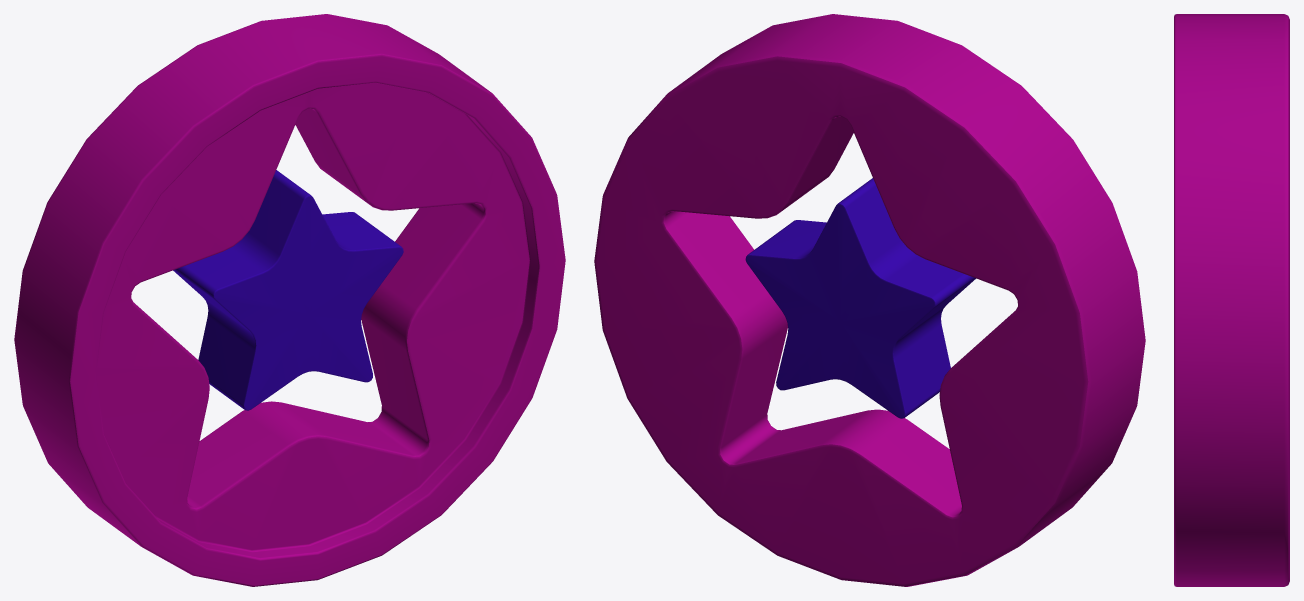
The model's file is Star_Coin_2M_BM.fbx.
3 renders of one model, left to right at view 1: azimuth 30°, elevation 25°; view 2: azimuth 150°, elevation 25°; view 3: azimuth 270°, elevation 25°, orthographic.
Parts seen in each view (by area): view 1: Star_Coin_2M_BM; view 2: Star_Coin_2M_BM; view 3: Star_Coin_2M_BM.
Boxes of the visible parts, box(x1,y1,x2,y2) form: Star_Coin_2M_BM: box(14, 14, 565, 586); Star_Coin_2M_BM: box(594, 14, 1145, 586); Star_Coin_2M_BM: box(1174, 14, 1289, 586).
Size of the model in its own units: 232 by 232 by 46.8.
